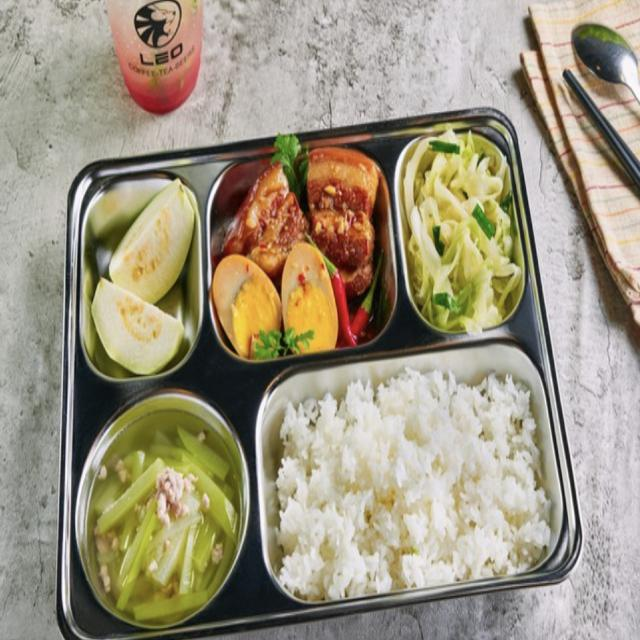bap cai luoc: (401, 125, 524, 332)
canh bau: (74, 391, 249, 628)
com: (270, 370, 551, 599)
kho trung: (212, 147, 379, 358)
oi: (92, 180, 195, 374)
ot: (340, 270, 379, 342), (323, 255, 338, 287)
rau ngo: (271, 134, 307, 199), (253, 329, 314, 359)
